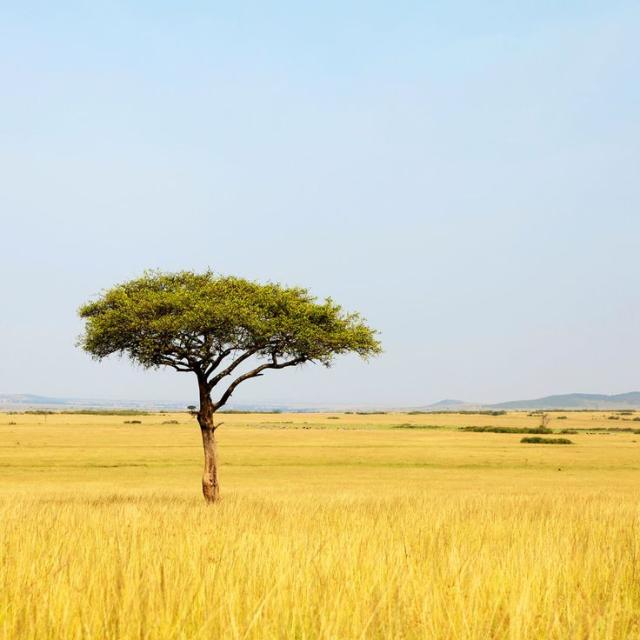Acacia: (76, 269, 350, 491)
